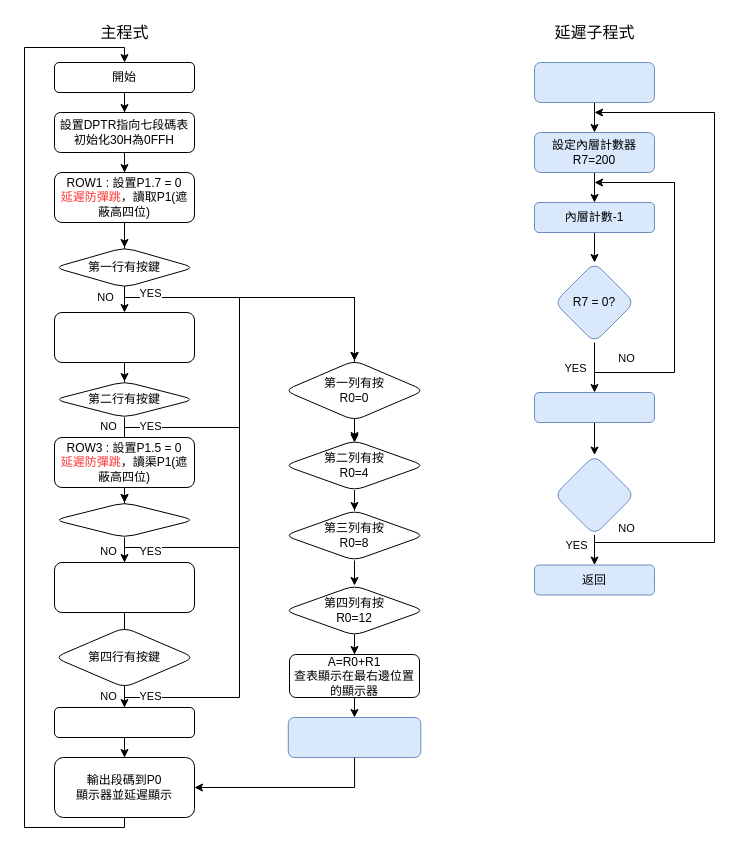
The diagram is 740 pixels wide and 853 high, and some of its shapes have lost their labels. Here are the shapes that lost their labels. From the top down, the centre of each, then its label:
the point at 594,82: 設定外層計數器R6=50
the point at 124,337: ROW2:設置P1.6=0 延遲防彈跳 ，讀取P1 (遮蔽高四位)
the point at 594,407: 外層計數-1
the point at 594,494: R6 = 0?
the point at 124,520: 第三行有按鍵
the point at 124,587: ROW4:設置P1.4=0 延遲防彈跳 ，讀取P1 (遮蔽高四位)
the point at 124,722: 設置30H為0FFH(熄滅)
the point at 354,737: DISP_DELAY 延遲函示
